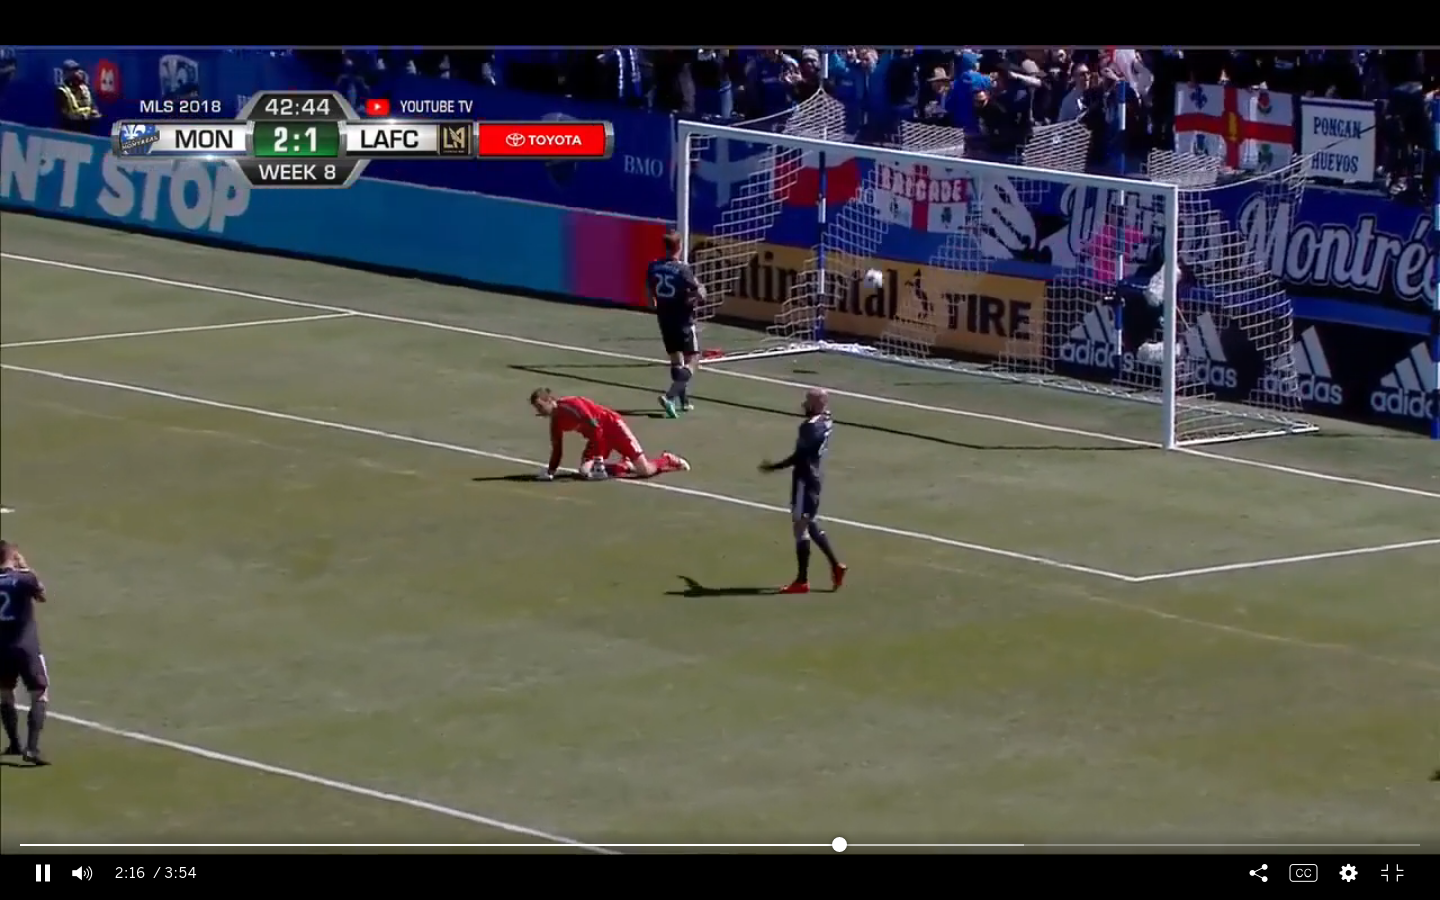soccer player: (759, 383, 844, 603), (530, 388, 699, 483), (1, 539, 58, 768), (648, 225, 707, 422)
soccerball: (864, 265, 888, 289)
